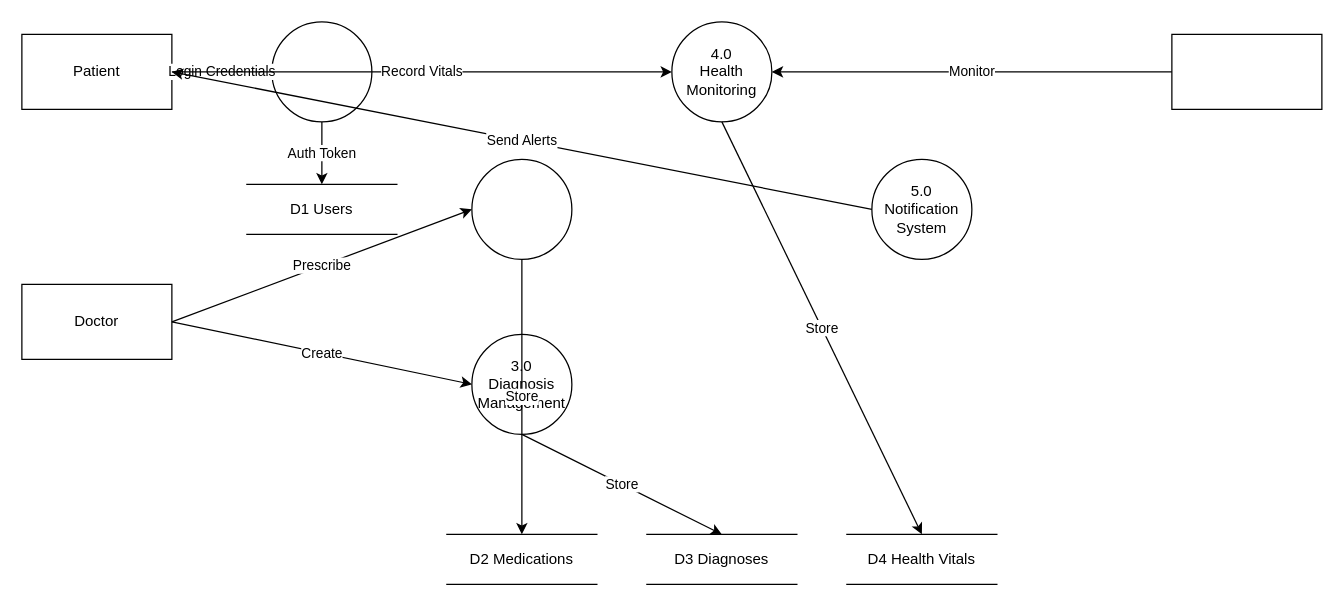
Some shapes in this 1344 by 606 pixel diagram are drawn without their labels. The centre of each missing label's shape, as x and y in pixels:
"1.0 User Authentication" belongs at pixel 321 71.
"2.0 Medication Management" belongs at pixel 521 208.
"Caregiver" belongs at pixel 1246 71.
